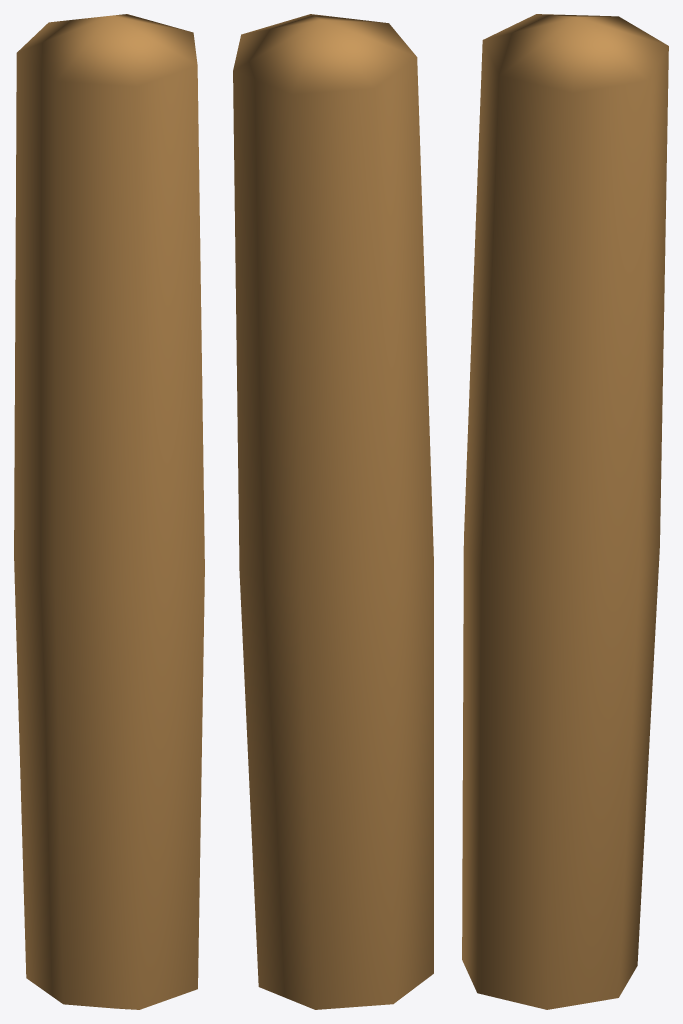
The model's file is claw_T2_right_leg.obj.
3 renders of one model, left to right at view 1: azimuth 30°, elevation 25°; view 2: azimuth 150°, elevation 25°; view 3: azimuth 270°, elevation 25°, orthographic.
Bounding box in the file's own units: 0.00214 × 0.0122 × 0.00231.
